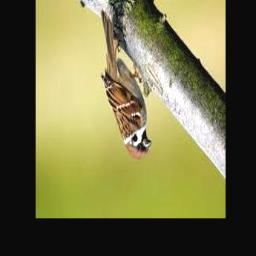Sparrow: (101, 11, 151, 158)
